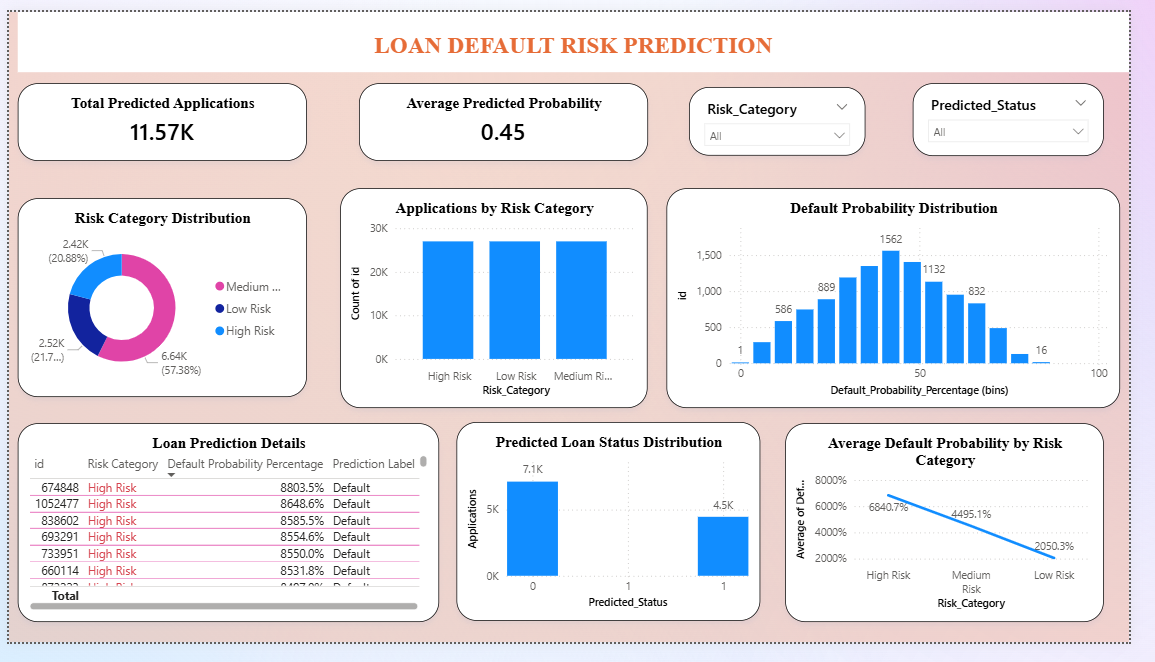

The dashboard page shown, as its layout file describes it:
{"tool":"powerbi","page":{"name":"Loan Default ","canvas":[1280,720],"ordinal":3},"visuals":[{"type":"textbox","box":[10,0,1270,68.6],"z":0},{"type":"card","title":"Total Predicted Applications","fields":{"Values":["CountNonNull(loan_risk_predictions.id)"]},"box":[10,81.4,330,88.6],"z":1000},{"type":"card","title":"Average Predicted Probability","fields":{"Values":["Avg(loan_risk_predictions.Default_Probability)"]},"box":[400,81.4,330,88.6],"z":2000},{"type":"donutChart","title":"Risk Category Distribution","fields":{"Category":["loan_risk_predictions.Risk_Category"],"Y":["CountNonNull(loan_risk_predictions.id)"]},"box":[10,212.9,330,227.1],"z":3000},{"type":"columnChart","title":"Applications by Risk Category","fields":{"Y":["CountNonNull(loan_train_cleaned.id)"],"Category":["loan_risk_predictions.Risk_Category"]},"box":[378.6,201.4,351.4,251.4],"z":4000},{"type":"clusteredColumnChart","title":"Default Probability Distribution","fields":{"Category":["loan_risk_predictions.Default_Probability_Percentage (bins)"],"Y":["CountNonNull(loan_risk_predictions.id)"]},"box":[751.4,201.4,518.6,251.4],"z":5000},{"type":"tableEx","title":"Loan Prediction Details","fields":{"Values":["loan_risk_predictions.id","loan_risk_predictions.Risk_Category","loan_risk_predictions.Default_Probability_Percentage","loan_risk_predictions.Prediction Label"]},"box":[10,470,481.4,227.1],"z":6000},{"type":"slicer","fields":{"Values":["loan_risk_predictions.Risk_Category"]},"box":[777.1,85.7,201.4,78.6],"z":7000},{"type":"slicer","fields":{"Values":["loan_risk_predictions.Predicted_Status"]},"box":[1032.9,81.4,218.6,82.9],"z":8000},{"type":"columnChart","title":"Predicted Loan Status Distribution","fields":{"Category":["loan_risk_predictions.Predicted_Status"],"Y":["CountNonNull(loan_risk_predictions.id)"]},"box":[511.4,468.6,347.1,227.1],"z":8001},{"type":"lineChart","title":"Average Default Probability by Risk Category","fields":{"Category":["loan_risk_predictions.Risk_Category"],"Y":["Avg(loan_risk_predictions.Default_Probability_Percentage)"]},"box":[887.1,470,364.3,227.1],"z":8002}]}

Visuals, with their boxes in screenshot pixels (x1, y1, x2, y2), scaled from the page's 1280x720 canvas onto the 1155x662 screenshot:
textbox: region(9, 0, 1154, 63)
"Total Predicted Applications" card: region(9, 75, 307, 156)
"Average Predicted Probability" card: region(361, 75, 659, 156)
"Risk Category Distribution" donutChart: region(9, 196, 307, 405)
"Applications by Risk Category" columnChart: region(342, 185, 659, 416)
"Default Probability Distribution" clusteredColumnChart: region(678, 185, 1146, 416)
"Loan Prediction Details" tableEx: region(9, 432, 443, 641)
slicer - loan_risk_predictions.Risk_Category: region(701, 79, 883, 151)
slicer - loan_risk_predictions.Predicted_Status: region(932, 75, 1129, 151)
"Predicted Loan Status Distribution" columnChart: region(461, 431, 775, 640)
"Average Default Probability by Risk Category" lineChart: region(800, 432, 1129, 641)
